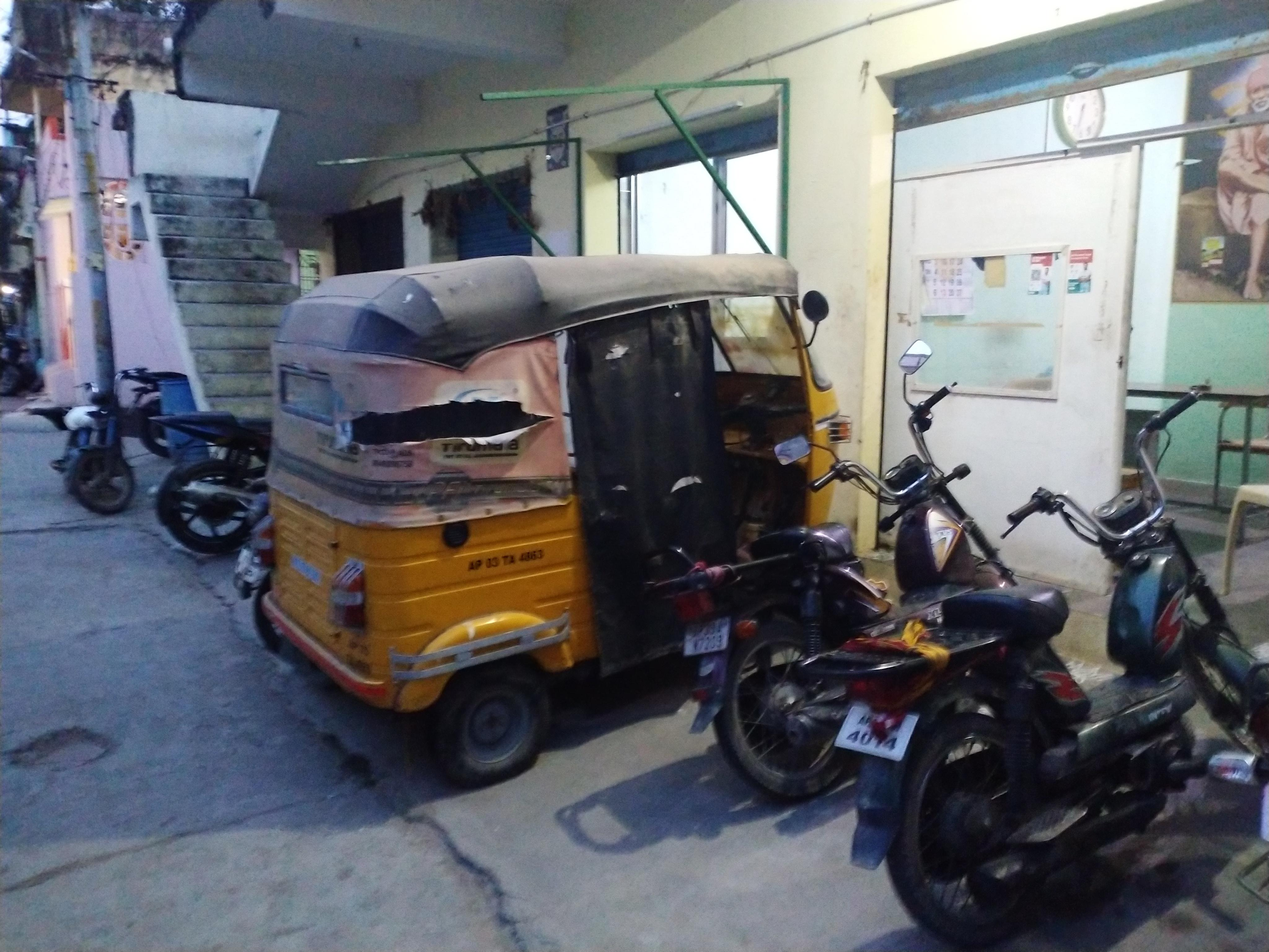Auto: (211, 181, 942, 644)
